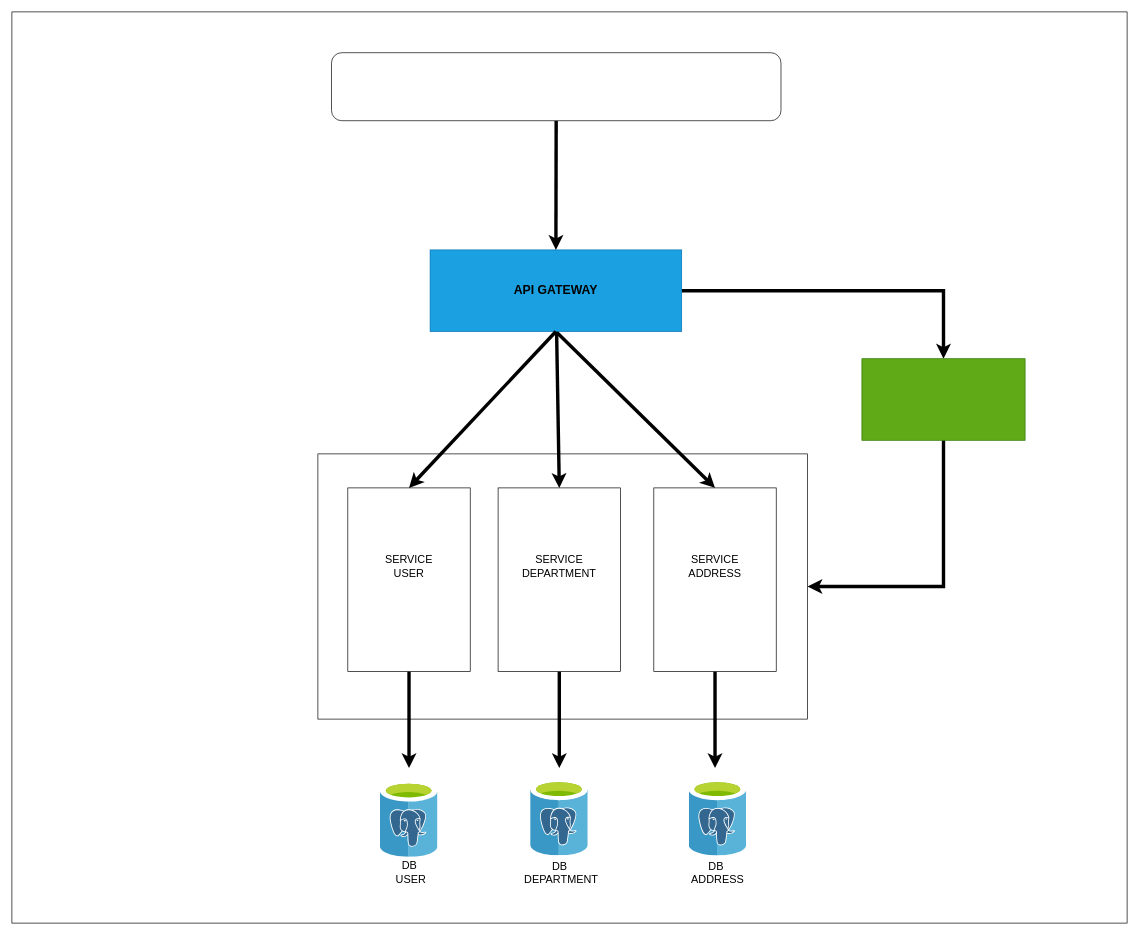
The diagram is 1139 pixels wide and 935 high, and some of its shapes have lost their labels. The centre of each missing label's shape, as x and y in pixels:
"CLIENT" goes at (556,86).
"SERVICE REGISTRY & DISCOVER" goes at (943,399).
